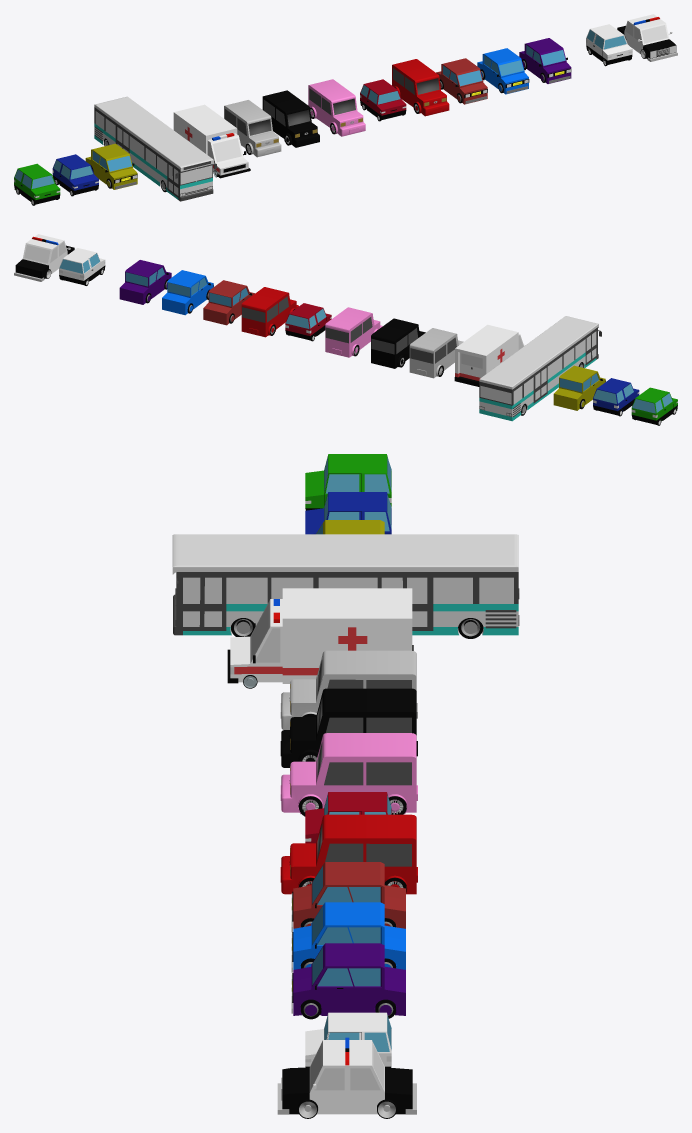
The model's file is npc_cars.fbx.
3 views of the same model, one above another, from view 1: azimuth 30°, elevation 25°; view 2: azimuth 150°, elevation 25°; view 3: azimuth 270°, elevation 25° (orthographic). The views are drawn at different scales.
Visible parts, largest first — view 1: Bus, Ambulance, car01_red.003, car01_red.002, car01_red.005, car01_red.004, policeCar, car02_yellow.003, car02_yellow.002, car02_yellow.001, car02_yellow, car03_white (+3 smaller); view 2: Bus, Ambulance, car01_red.002, car01_red.003, car01_red.004, car01_red.005, policeCar, car02_yellow.003, car02_yellow.002, car02_yellow, car02_yellow.001, car03_white.003 (+3 smaller); view 3: Bus, Ambulance, car01_red.003, policeCar, car01_red.002, car02_yellow.003, car01_red.005, car01_red.004, car02_yellow.002, car02_yellow.001, car03_white.003, car03_white (+3 smaller).
Part boxes in pixels (x1,y1,x2,y2): Bus: [94, 96, 216, 201]; Ambulance: [173, 104, 250, 178]; car01_red.003: [308, 79, 365, 136]; car01_red.002: [392, 59, 449, 116]; car01_red.005: [262, 90, 319, 147]; car01_red.004: [224, 100, 281, 157]; policeCar: [617, 14, 677, 61]; car02_yellow.003: [519, 38, 571, 83]; car02_yellow.002: [477, 48, 529, 94]; car02_yellow.001: [436, 58, 487, 104]; car02_yellow: [85, 143, 137, 189]; car03_white: [586, 24, 632, 66]; Bus: [479, 316, 601, 421]; Ambulance: [454, 324, 525, 386]; car01_red.002: [241, 287, 298, 337]; car01_red.003: [325, 307, 382, 357]; car01_red.004: [409, 328, 463, 378]; car01_red.005: [371, 318, 425, 368]; policeCar: [14, 234, 74, 281]; car02_yellow.003: [119, 260, 171, 304]; car02_yellow.002: [162, 270, 213, 315]; car02_yellow: [553, 365, 605, 410]; car02_yellow.001: [203, 280, 254, 325]; car03_white.003: [631, 387, 677, 425]; Bus: [172, 534, 519, 638]; Ambulance: [227, 588, 413, 688]; car01_red.003: [280, 733, 417, 816]; policeCar: [277, 1037, 416, 1118]; car01_red.002: [280, 814, 417, 894]; car02_yellow.003: [291, 943, 405, 1019]; car01_red.005: [280, 688, 417, 767]; car01_red.004: [280, 650, 417, 729]; car02_yellow.002: [291, 902, 405, 972]; car02_yellow.001: [291, 862, 405, 931]; car03_white.003: [305, 454, 391, 510]; car03_white: [305, 1012, 391, 1067].
Bounding box in the file's own units: 1235 × 69.18 × 290.
